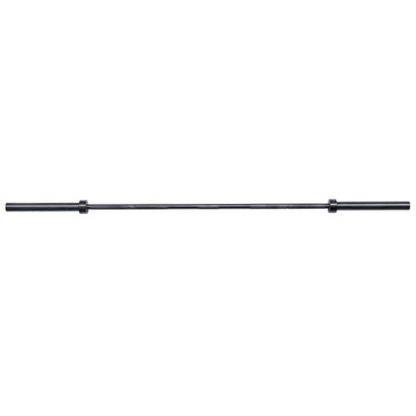Barbell: (2, 194, 24, 223)
